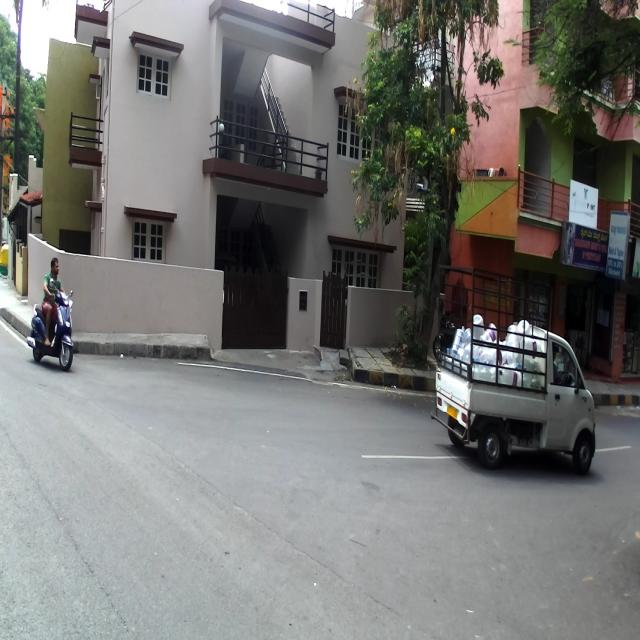scooter: (26, 287, 74, 373)
truck: (430, 263, 596, 476)
